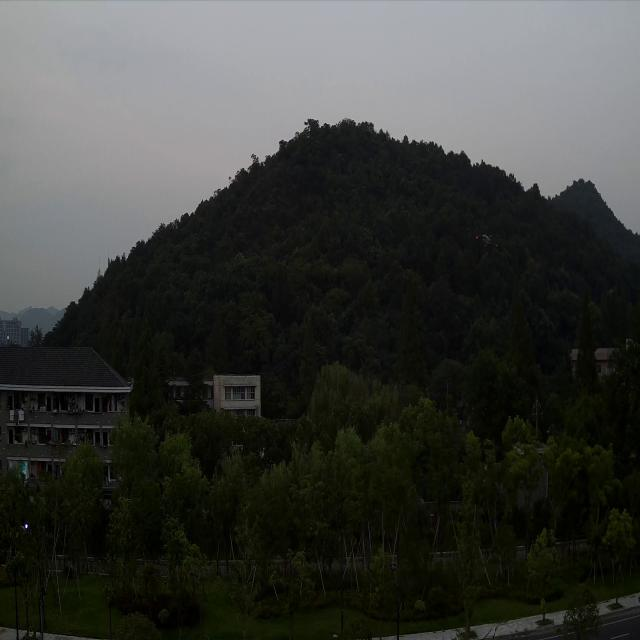UAV: (474, 230, 499, 249)
